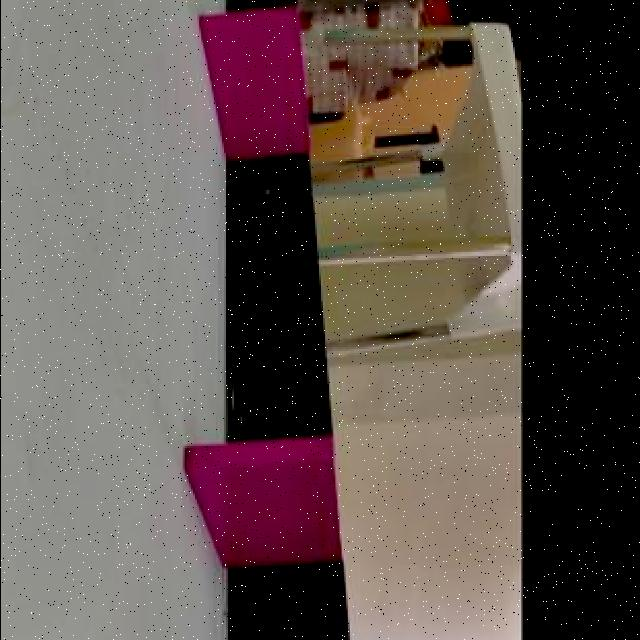xparking: (185, 442, 335, 556), (198, 15, 300, 144)
